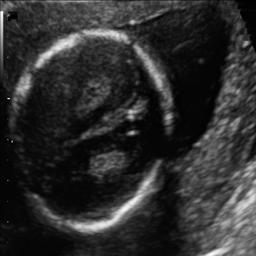normal: (14, 31, 177, 238)
